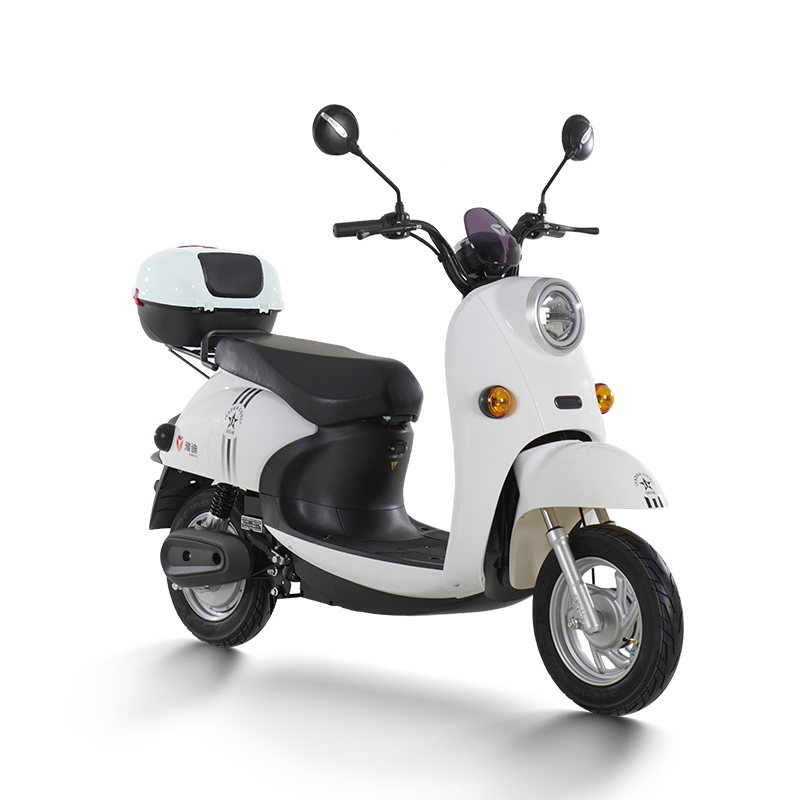MNV: (132, 208, 686, 718)
